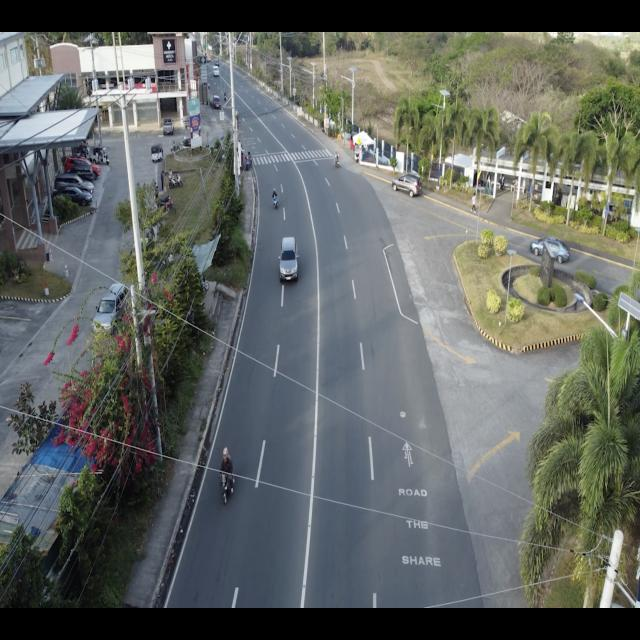car: (90, 278, 130, 342), (528, 234, 570, 264), (278, 235, 300, 286), (52, 172, 94, 197), (62, 155, 100, 182), (53, 186, 93, 209), (390, 172, 422, 198), (61, 163, 95, 184), (163, 116, 174, 135), (212, 94, 222, 111)
motorcycle: (218, 443, 236, 508), (168, 172, 184, 190), (271, 187, 279, 209), (334, 152, 341, 168)
person: (470, 192, 478, 215)
